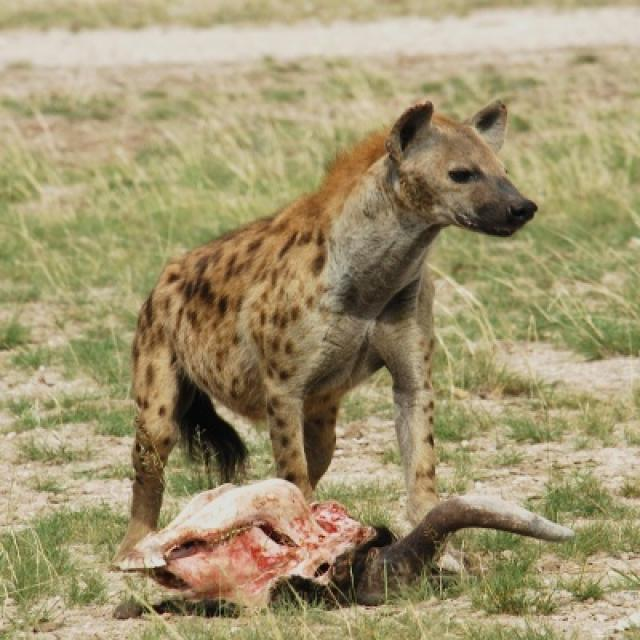hyena: (131, 102, 536, 530)
